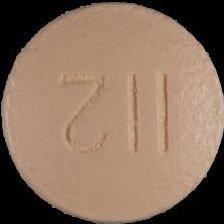54868-6031: (0, 0, 224, 224)
